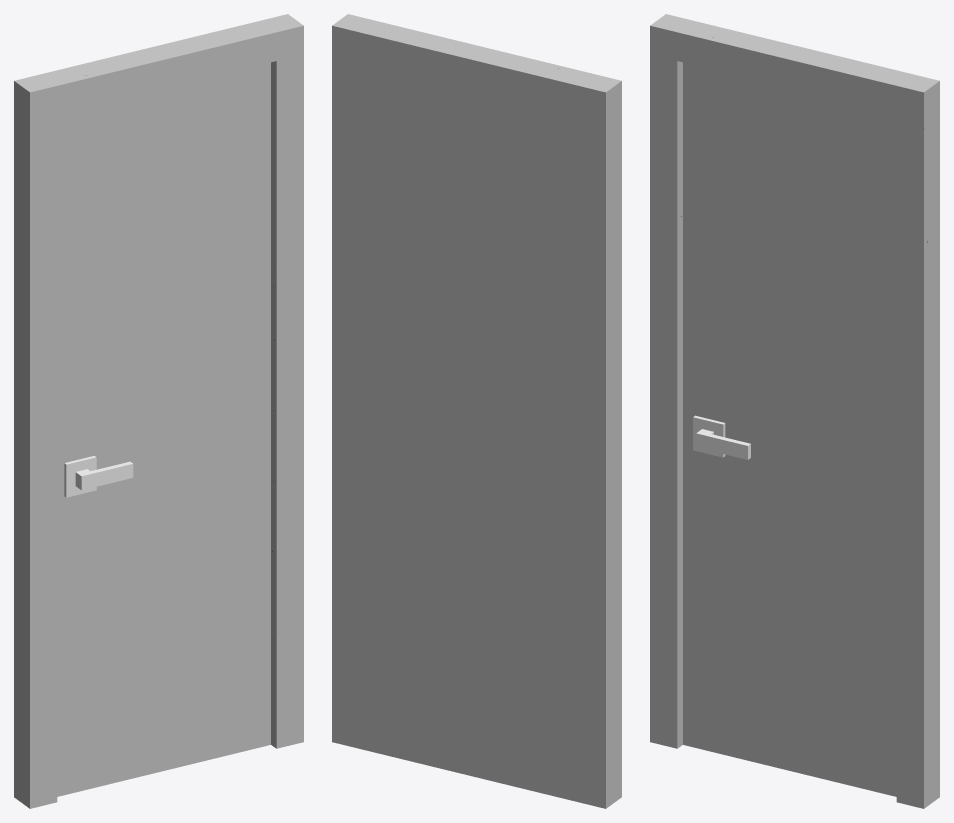
The model's file is s_door.fbx.
The picture shows the model from 3 angles, left to right: view 1: azimuth 30°, elevation 25°; view 2: azimuth 150°, elevation 25°; view 3: azimuth 330°, elevation 25°; orthographic projection.
Parts seen in each view (by area): view 1: S Door; view 2: S Door; view 3: S Door.
Part boxes in pixels (x1,y1,x2,y2): S Door: (14, 14, 303, 808); S Door: (332, 14, 621, 808); S Door: (650, 14, 939, 808).
Bounding box in the file's own units: 100 × 250 × 11.8.
